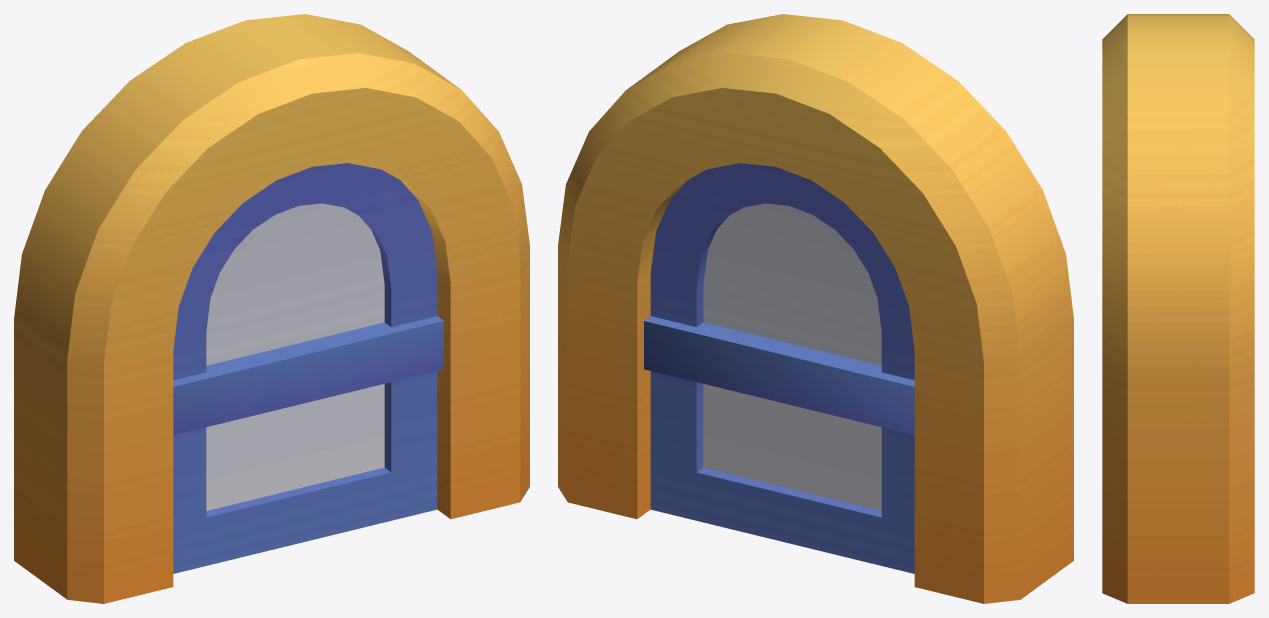
File: door-rotate-large.glb
3 views of the same model, side by side, from view 1: azimuth 30°, elevation 25°; view 2: azimuth 150°, elevation 25°; view 3: azimuth 270°, elevation 25° (orthographic). The views are drawn at different scales.
Parts seen in each view (by area): view 1: door-rotate-large, door; view 2: door-rotate-large, door; view 3: door-rotate-large.
Part boxes in pixels (bbox=[...]): door-rotate-large: bbox=[14, 14, 529, 603]; door: bbox=[173, 163, 443, 573]; door-rotate-large: bbox=[558, 14, 1073, 603]; door: bbox=[644, 163, 914, 573]; door-rotate-large: bbox=[1102, 14, 1254, 603].
Size of the model in its own units: 1 by 1 by 0.3.
Materials: 1 (1 with a texture image).
